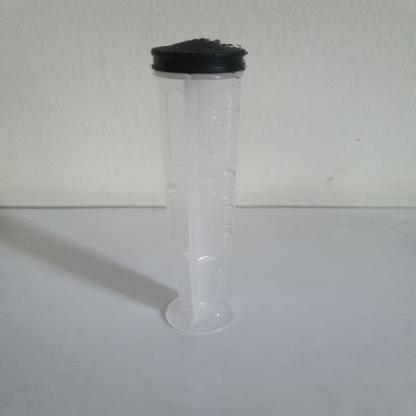wet: (145, 39, 240, 335)
